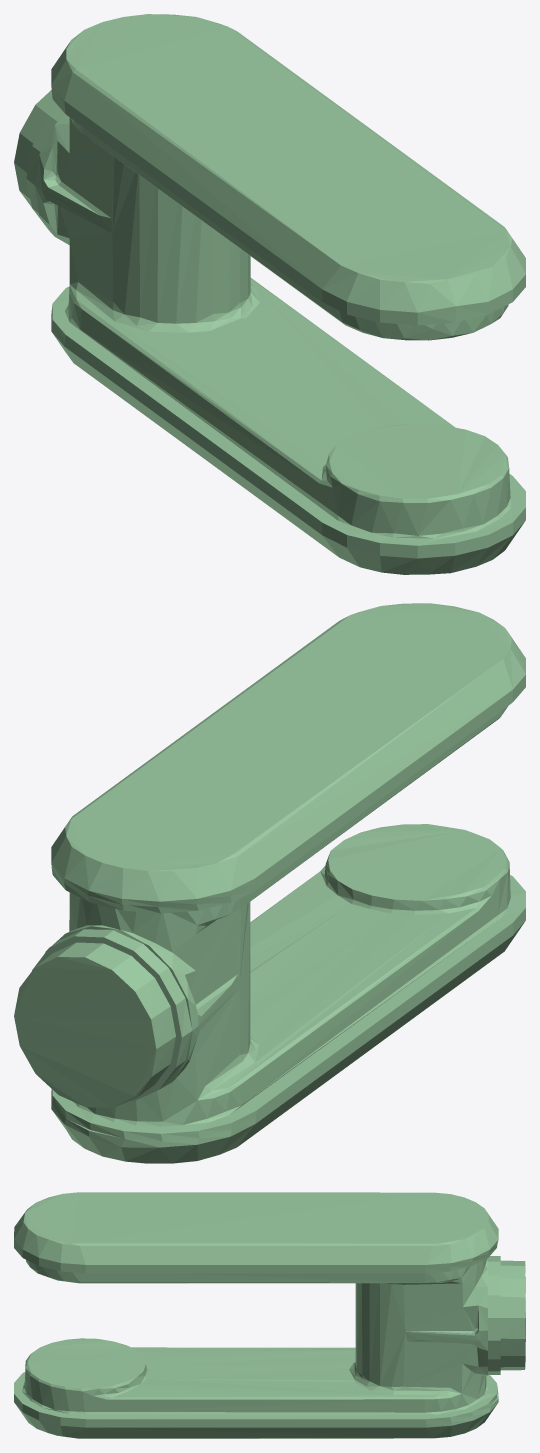
3 views of the same model, one above another, from view 1: azimuth 30°, elevation 25°; view 2: azimuth 150°, elevation 25°; view 3: azimuth 270°, elevation 25° (orthographic). The views are drawn at different scales.
Parts seen in each view (by area): view 1: link5; view 2: link5; view 3: link5.
Boxes of the visible parts, x1,y1,x2,y2 form: link5: (14, 14, 525, 574); link5: (14, 603, 525, 1163); link5: (14, 1192, 525, 1438).
Bounding box in the file's own units: 0.086 × 0.1269 × 0.3024.
